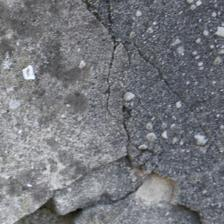Crack: (0, 20, 52, 132), (29, 72, 92, 146), (0, 89, 81, 132), (30, 24, 51, 152)
